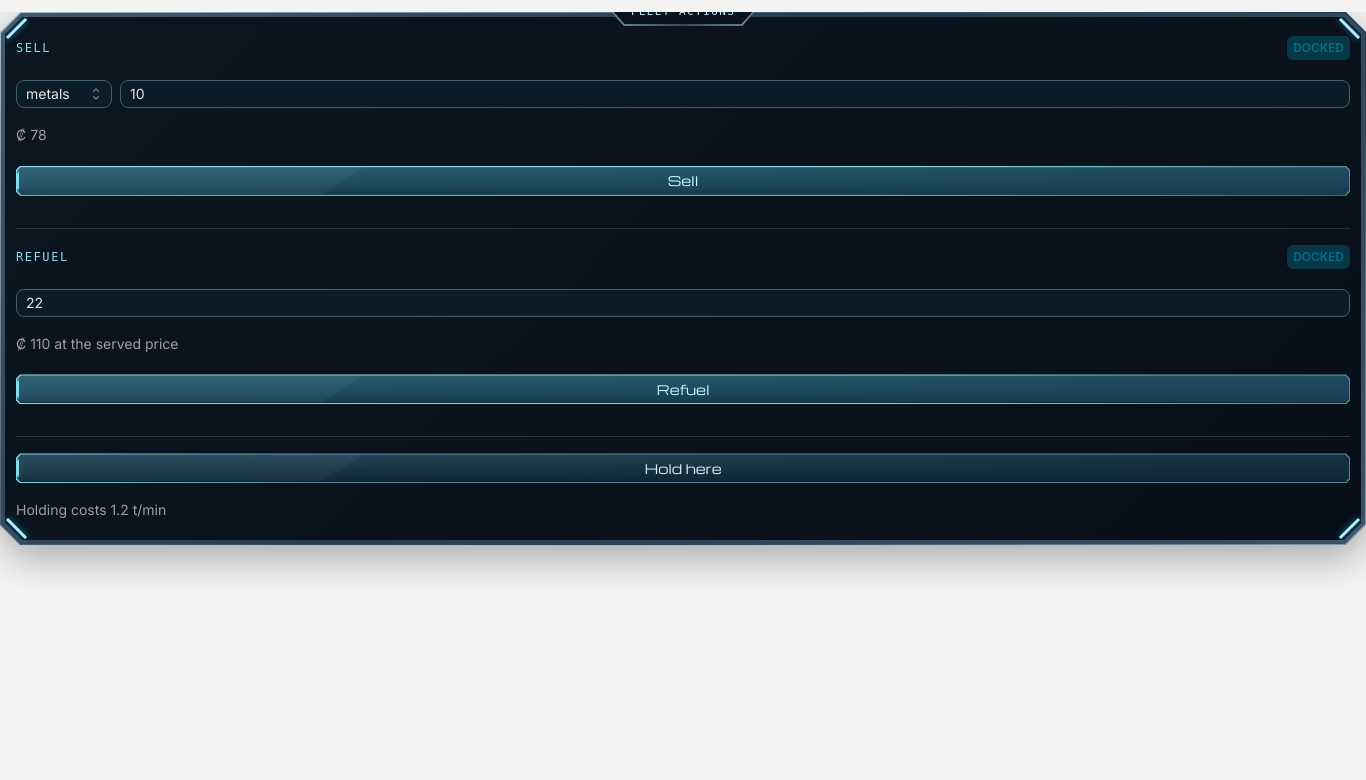
FleetActionsPanel — the refuel offer › Scenario: Tonnage input clamps to the fleet's free hold
Replace the text in the number field with test id "refuel-tons-input" with "999" at point(683, 303), box [16,289,1350,317]
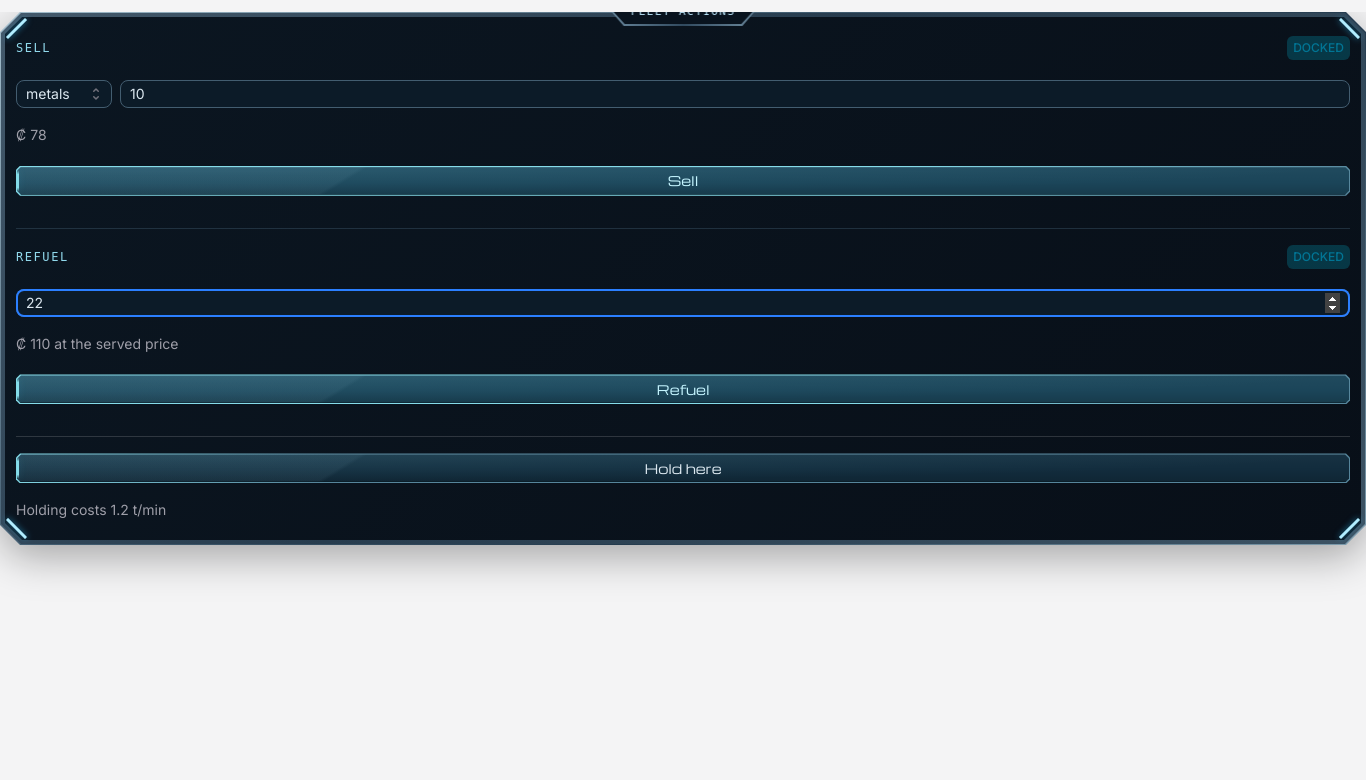
expect the number field with test id "refuel-tons-input" holds "22": met, box [16,289,1350,317]
